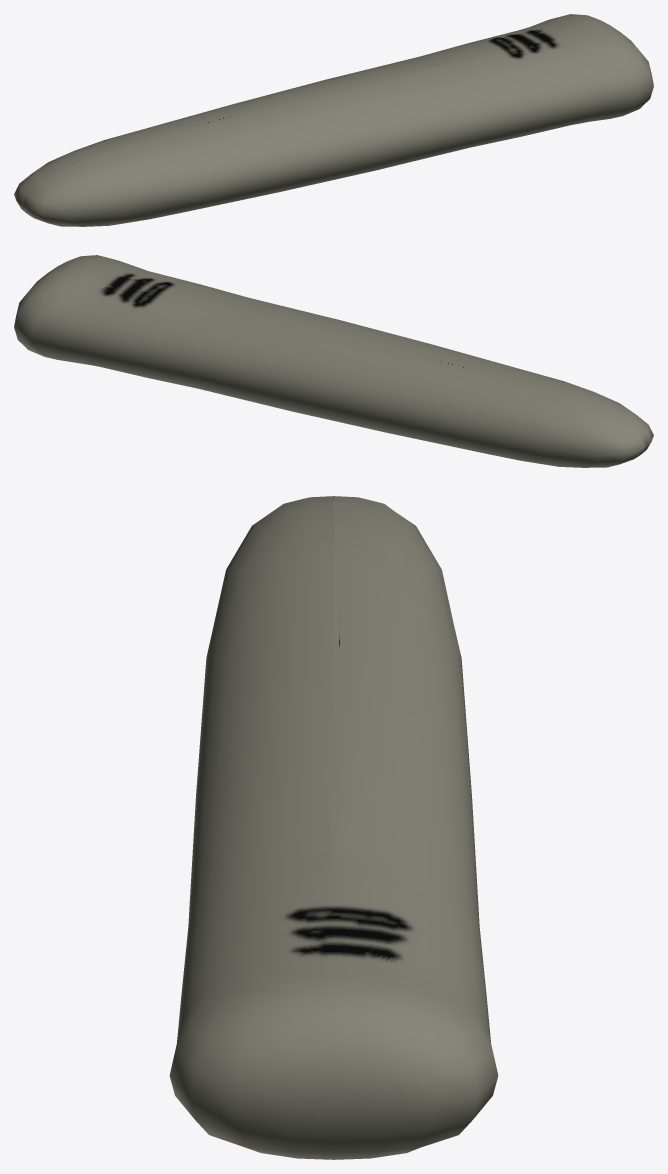
File: 3DScratchbone9.glb
The picture shows the model from 3 angles, top to bottom: view 1: azimuth 30°, elevation 25°; view 2: azimuth 150°, elevation 25°; view 3: azimuth 270°, elevation 25°; orthographic projection. The views are drawn at different scales.
Parts seen in each view (by area): view 1: 3dScratchbone9; view 2: 3dScratchbone9; view 3: 3dScratchbone9.
Boxes of the visible parts, x1,y1,x2,y2 form: 3dScratchbone9: (14, 14, 653, 226); 3dScratchbone9: (14, 255, 653, 467); 3dScratchbone9: (169, 496, 498, 1159).
Bounding box in the file's own units: 0.5889 × 0.075 × 0.138.
1 material, 1 textured.
